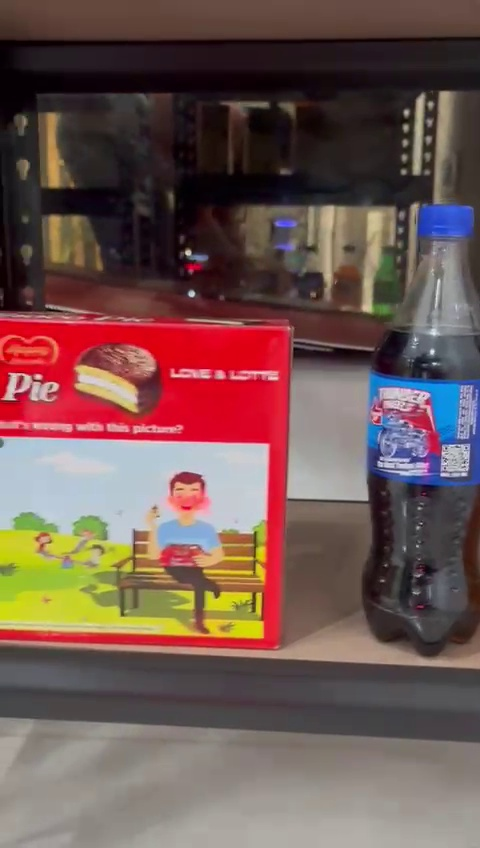Thums-up: (356, 205, 480, 664)
